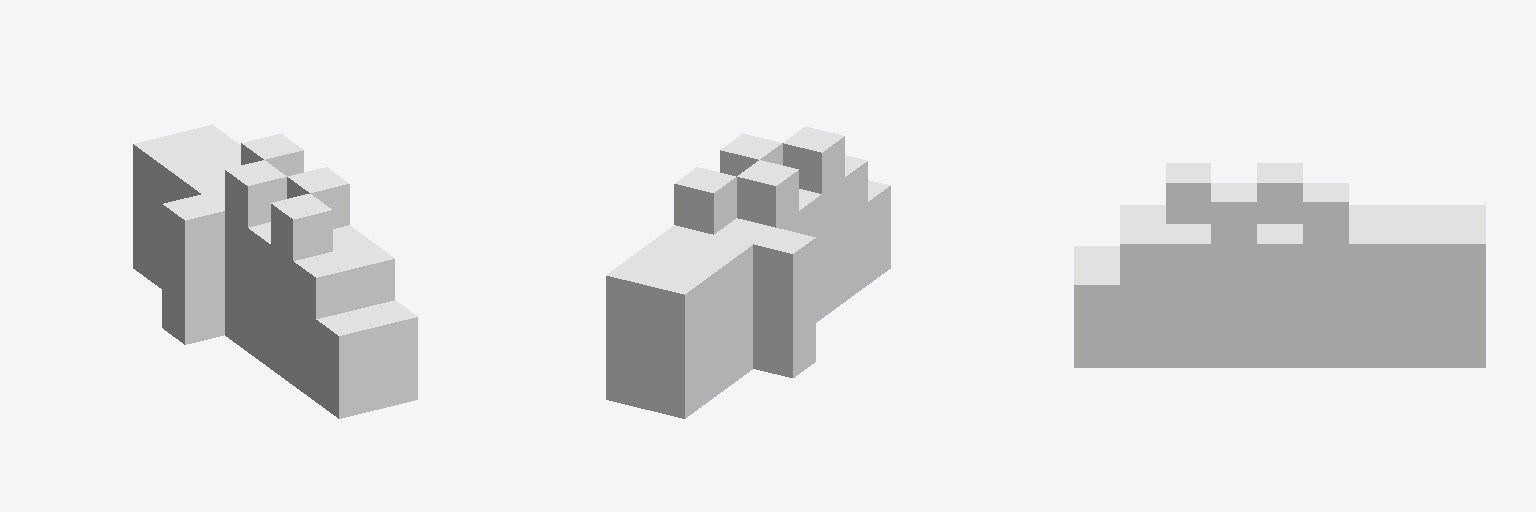
File: Brunette-12.obj
3 views of the same model, side by side, from view 1: azimuth 30°, elevation 25°; view 2: azimuth 150°, elevation 25°; view 3: azimuth 270°, elevation 25° (orthographic).
Parts seen in each view (by area): view 1: object 1; view 2: object 1; view 3: object 1.
Boxes of the visible parts, box(x1,y1,x2,y2) form: object 1: box(133, 125, 417, 418); object 1: box(606, 126, 890, 418); object 1: box(1074, 163, 1485, 367).
Size of the model in its own units: 0.3 by 0.4 by 0.9.